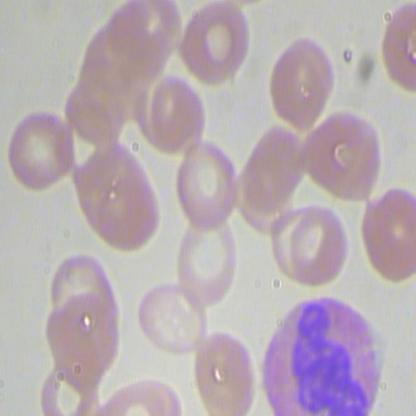RBC: (72, 137, 162, 257), (297, 107, 385, 210), (172, 206, 241, 312), (265, 35, 339, 132), (186, 325, 263, 415), (170, 140, 240, 231), (5, 103, 76, 192), (138, 67, 209, 156), (179, 1, 250, 89), (132, 276, 209, 354), (287, 203, 351, 288), (358, 189, 415, 283)
WBC: (253, 296, 393, 415)
